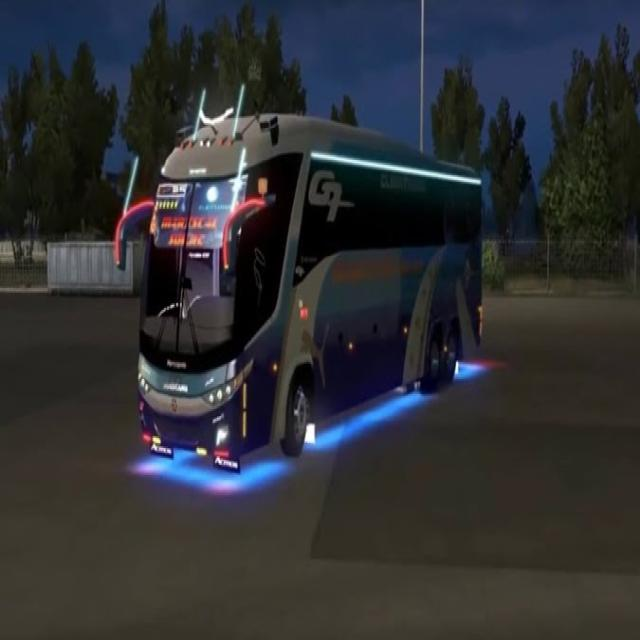BUS: (130, 97, 486, 472)
